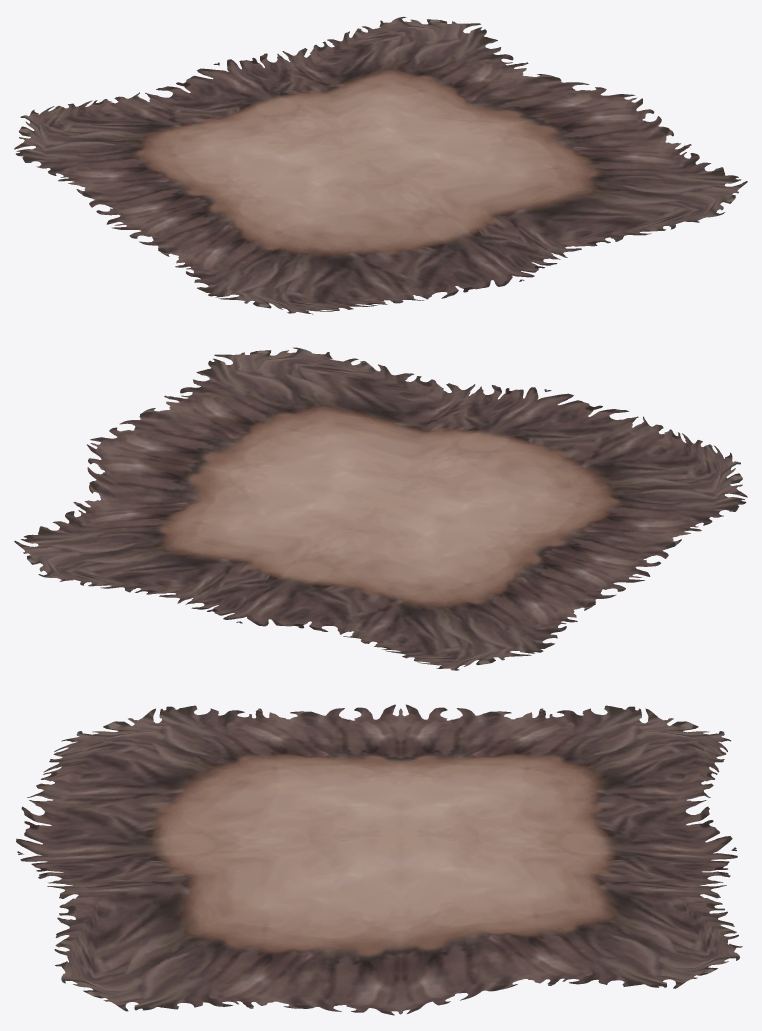
File: wt_rug_02.obj
3 views of the same model, one above another, from view 1: azimuth 30°, elevation 25°; view 2: azimuth 150°, elevation 25°; view 3: azimuth 270°, elevation 25° (orthographic). The views are drawn at different scales.
Parts seen in each view (by area): view 1: wt_rug_02; view 2: wt_rug_02; view 3: wt_rug_02.
Part boxes in pixels (x1=…): wt_rug_02: x1=14, y1=16, x2=747, y2=314; wt_rug_02: x1=14, y1=347, x2=747, y2=670; wt_rug_02: x1=16, y1=704, x2=742, y2=1015.
Size of the model in its own units: 4.62 by 0.1316 by 4.55.
1 material, 1 textured.
